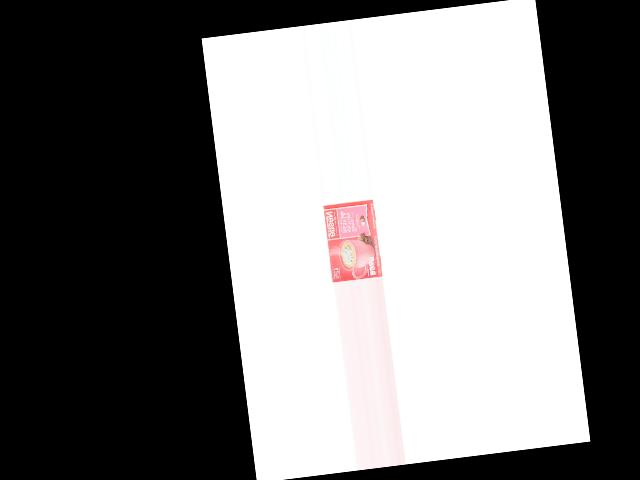chocolate: (325, 200, 385, 283)
